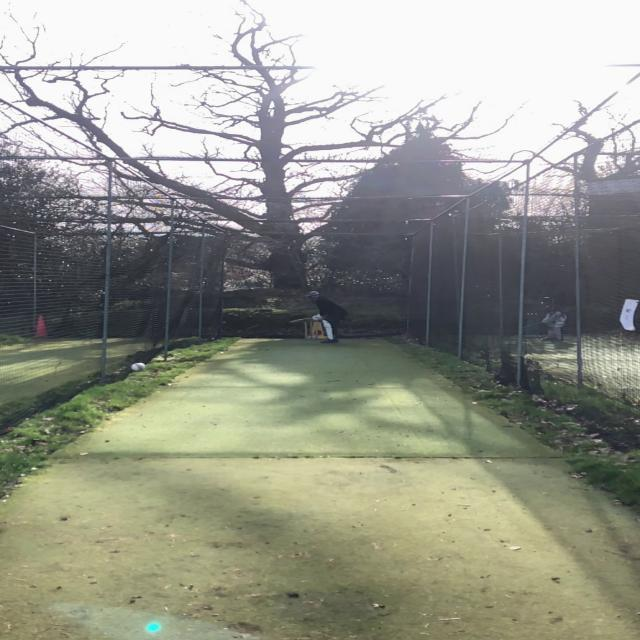ball: (131, 362, 146, 372)
